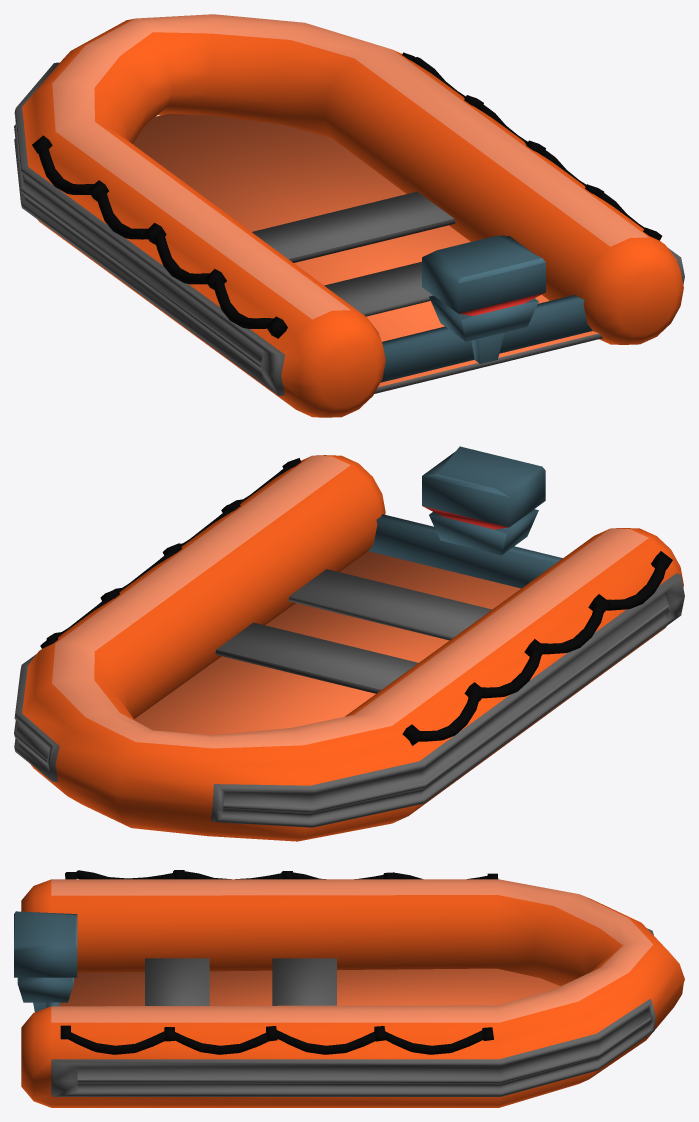
The model's file is rescue.bot.fbx.
3 renders of one model, top to bottom at view 1: azimuth 30°, elevation 25°; view 2: azimuth 150°, elevation 25°; view 3: azimuth 270°, elevation 25°, orthographic. The views are drawn at different scales.
Visible parts, largest first — view 1: Cube.002; view 2: Cube.002; view 3: Cube.002.
Boxes of the visible parts, left/top/right/bottom form: Cube.002: left=14, top=14, right=684, bottom=417; Cube.002: left=14, top=446, right=684, bottom=841; Cube.002: left=14, top=870, right=684, bottom=1107.
Bounding box in the file's own units: 390 × 115 × 631.
2 materials, 1 textured.
